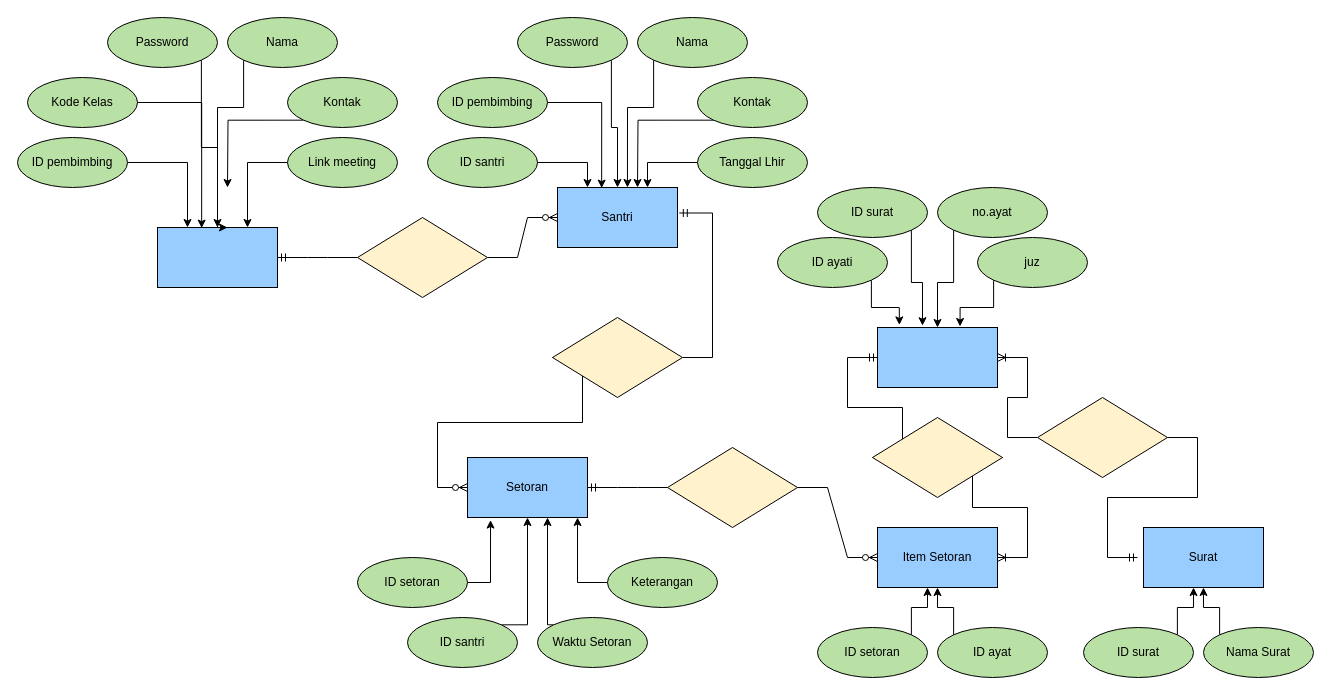
Some shapes in this 1331 by 695 pixel diagram are drawn without their labels. The centre of each missing label's shape, as x and y in pixels:
"Ayat" belongs at point 937,357.
"Berada pada" belongs at point 1102,437.
"Berisi" belongs at point 937,457.
"Memuat" belongs at point 732,487.
"Menerima Setoran" belongs at point 422,257.
"Menyetorkan" belongs at point 617,357.
"Pembimbing" belongs at point 217,257.
